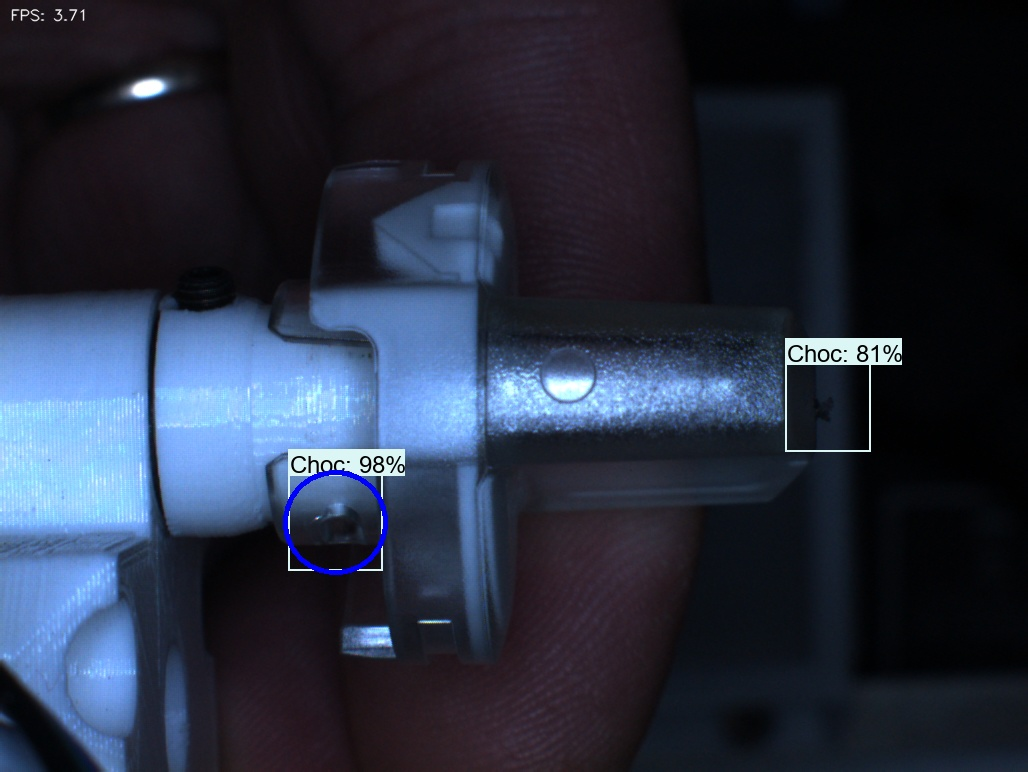DentOk: (352, 196, 421, 288)
